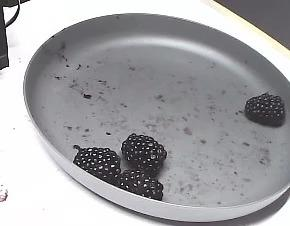berry: (121, 134, 166, 176), (73, 147, 120, 185), (244, 92, 285, 126), (118, 170, 162, 200)
